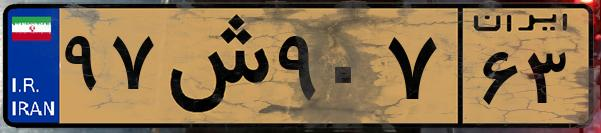0: (330, 28, 385, 110)
3: (525, 38, 570, 115)
6: (475, 38, 525, 113)
7: (385, 28, 445, 110), (110, 28, 158, 98)
9: (270, 28, 330, 110), (57, 26, 110, 100)
ش: (158, 12, 270, 120)
